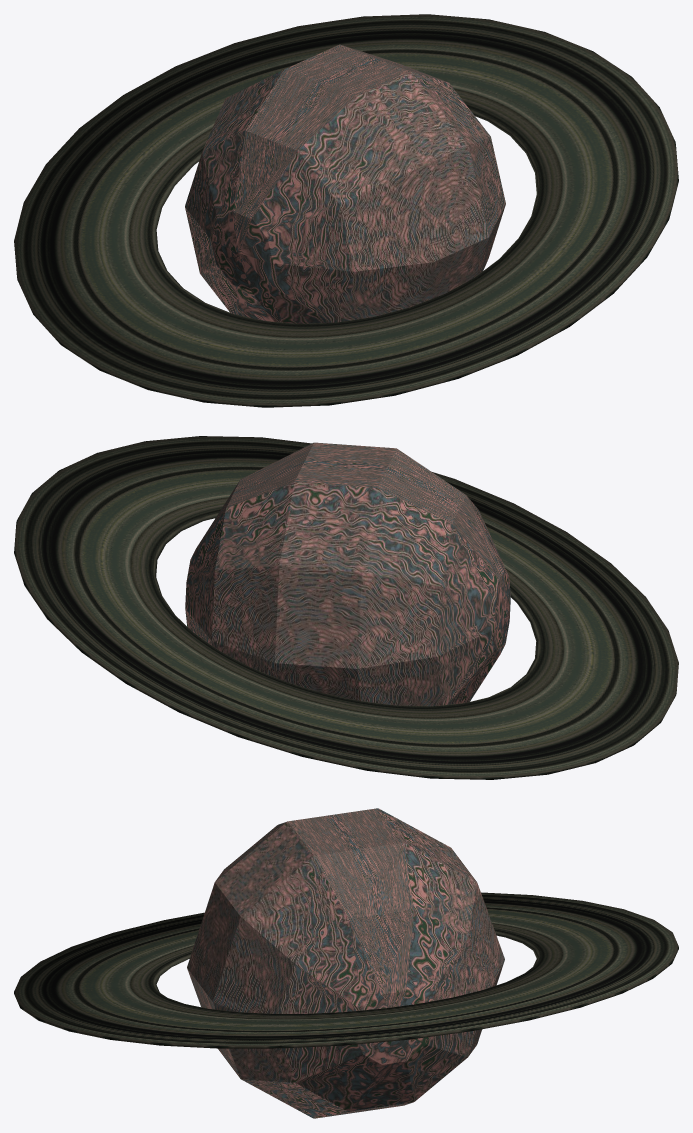
File: planet_red.glb
3 views of the same model, one above another, from view 1: azimuth 30°, elevation 25°; view 2: azimuth 150°, elevation 25°; view 3: azimuth 270°, elevation 25° (orthographic). The views are drawn at different scales.
Visible parts, largest first — view 1: Anillas, Planeta.011; view 2: Anillas, Planeta.011; view 3: Planeta.011, Anillas.
Boxes of the visible parts, left/top/right/bottom form: Anillas: left=14, top=14, right=678, bottom=407; Planeta.011: left=185, top=44, right=505, bottom=323; Anillas: left=14, top=436, right=678, bottom=779; Planeta.011: left=185, top=442, right=510, bottom=706; Planeta.011: left=187, top=808, right=504, bottom=1118; Anillas: left=14, top=892, right=678, bottom=1048.
Size of the model in its own units: 4.1 by 1.85 by 4.18.
2 materials, 2 textured.
